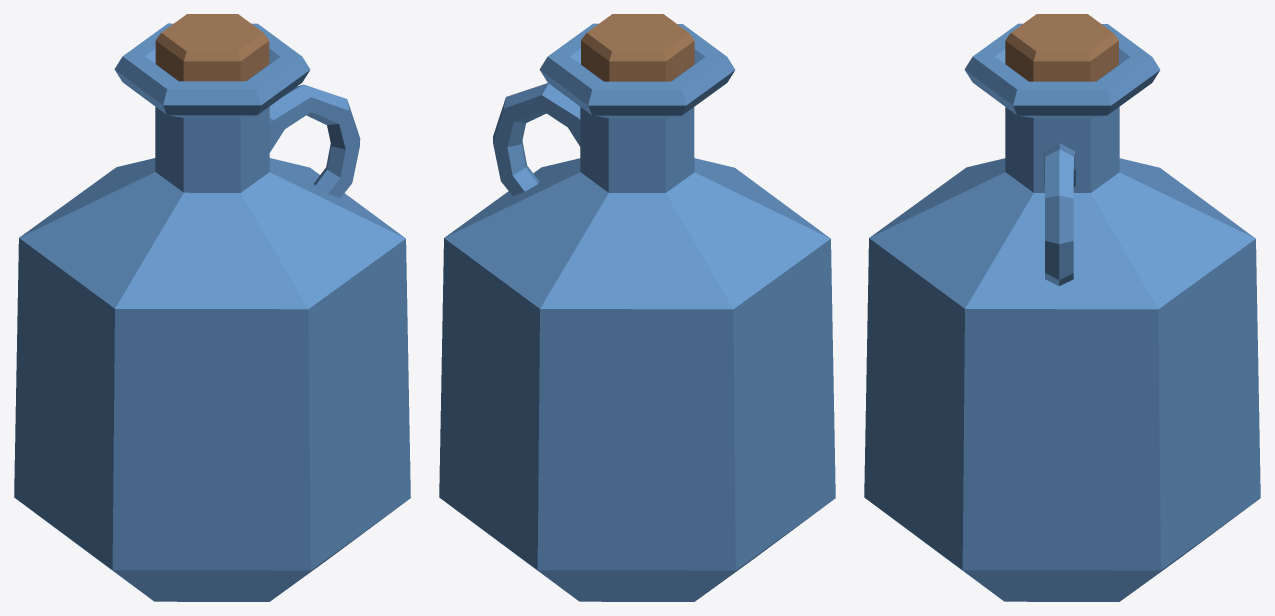
File: Blue_Potion_4.fbx
3 views of the same model, side by side, from view 1: azimuth 30°, elevation 25°; view 2: azimuth 150°, elevation 25°; view 3: azimuth 270°, elevation 25° (orthographic).
Visible parts, largest first — view 1: Blue_Potion_4; view 2: Blue_Potion_4; view 3: Blue_Potion_4.
Boxes of the visible parts, box(x1,y1,x2,y2) form: Blue_Potion_4: box(14, 14, 410, 601); Blue_Potion_4: box(439, 14, 835, 601); Blue_Potion_4: box(864, 14, 1260, 601).
Size of the model in its own units: 23.11 by 39.04 by 26.62.
